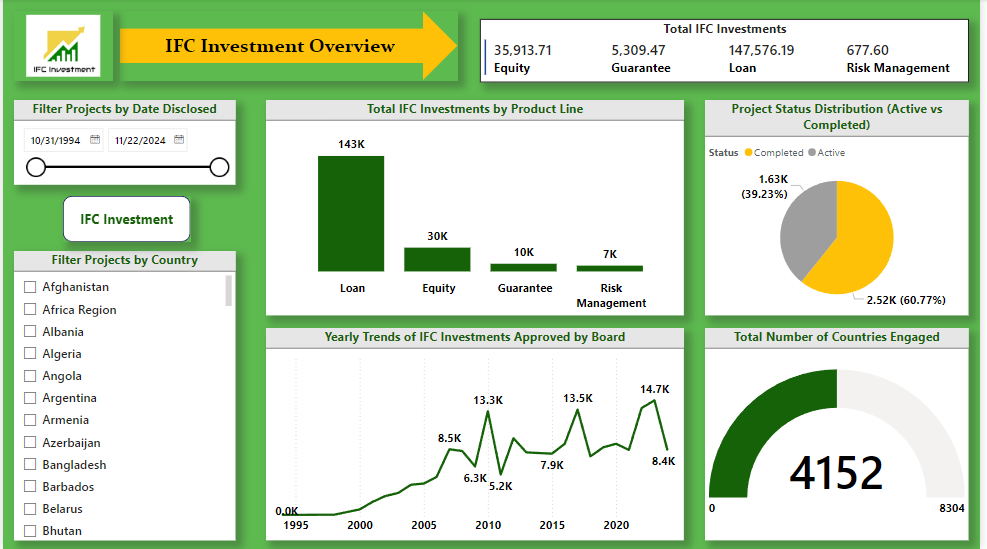

What the dashboard file says about the page in this screenshot:
{"tool":"powerbi","page":{"name":"IFC","canvas":[1280,720],"ordinal":0},"visuals":[{"type":"pieChart","title":"Project Status Distribution (Active vs Completed)","fields":{"Y":["CountNonNull(ifc_investment_services_projects_12-04-2024.Status)"],"Category":["ifc_investment_services_projects_12-04-2024.Status"]},"box":[919,131.7,345.4,282.4],"z":0},{"type":"clusteredColumnChart","title":"Total IFC Investments by Product Line","fields":{"Category":["ifc_investment_services_projects_12-04-2024.Product Line"],"Y":["Sum(ifc_investment_services_projects_12-04-2024.Total IFC investment as approved by Board(Million - USD))"]},"box":[343.9,131.7,547.3,282.4],"z":1000},{"type":"slicer","title":"Filter Projects by Date Disclosed","fields":{"Values":["ifc_investment_services_projects_12-04-2024.Date Disclosed"]},"box":[14.6,131.7,289.8,111.2],"z":2000},{"type":"slicer","title":"Filter Projects by Country","fields":{"Values":["ifc_investment_services_projects_12-04-2024.Country"]},"box":[14.6,329.3,289.8,379],"z":3000},{"type":"lineChart","title":"Yearly Trends of IFC Investments Approved by Board","fields":{"Category":["ifc_investment_services_projects_12-04-2024.IFC Approval Date.Variation.Date Hierarchy.Year"],"Y":["Sum(ifc_investment_services_projects_12-04-2024.Total IFC investment as approved by Board(Million - USD))"]},"box":[343.9,430.2,547.3,278],"z":4000},{"type":"multiRowCard","title":"Total IFC Investments ","fields":{"Values":["Sum(ifc_investment_services_projects_12-04-2024.IFC investment for Equity(Million - USD))","Sum(ifc_investment_services_projects_12-04-2024.IFC investment for Guarantee(Million - USD))","Sum(ifc_investment_services_projects_12-04-2024.IFC investment for Loan(Million - USD))","Sum(ifc_investment_services_projects_12-04-2024.IFC investment for Risk Management(Million - USD))"]},"box":[624.9,26.3,639.5,83.4],"z":5000},{"type":"gauge","title":"Total Number of Countries Engaged","fields":{"Y":["CountNonNull(ifc_investment_services_projects_12-04-2024.Country)"]},"box":[919,430.2,345.4,278],"z":6000},{"type":"shape","box":[79,257.6,166.8,60],"z":7000},{"type":"shape","box":[153.7,16.1,442,90.7],"z":8000},{"type":"image","box":[14.6,16.1,128.8,90.7],"z":9000}]}

Visuals, with their boxes in screenshot pixels (x1, y1, x2, y2), scaled from the page's 1280x720 canvas onto the 987x549 screenshot:
"Project Status Distribution (Active vs Completed)" pieChart: [709, 100, 975, 316]
"Total IFC Investments by Product Line" clusteredColumnChart: [265, 100, 687, 316]
"Filter Projects by Date Disclosed" slicer: [11, 100, 235, 185]
"Filter Projects by Country" slicer: [11, 251, 235, 540]
"Yearly Trends of IFC Investments Approved by Board" lineChart: [265, 328, 687, 540]
"Total IFC Investments " multiRowCard: [482, 20, 975, 84]
"Total Number of Countries Engaged" gauge: [709, 328, 975, 540]
shape: [61, 196, 190, 242]
shape: [119, 12, 459, 81]
image: [11, 12, 111, 81]
